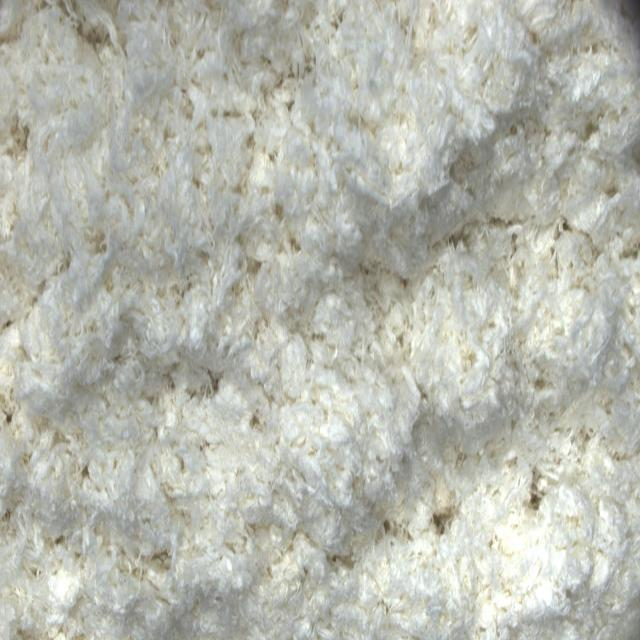dust: (430, 504, 453, 539)
